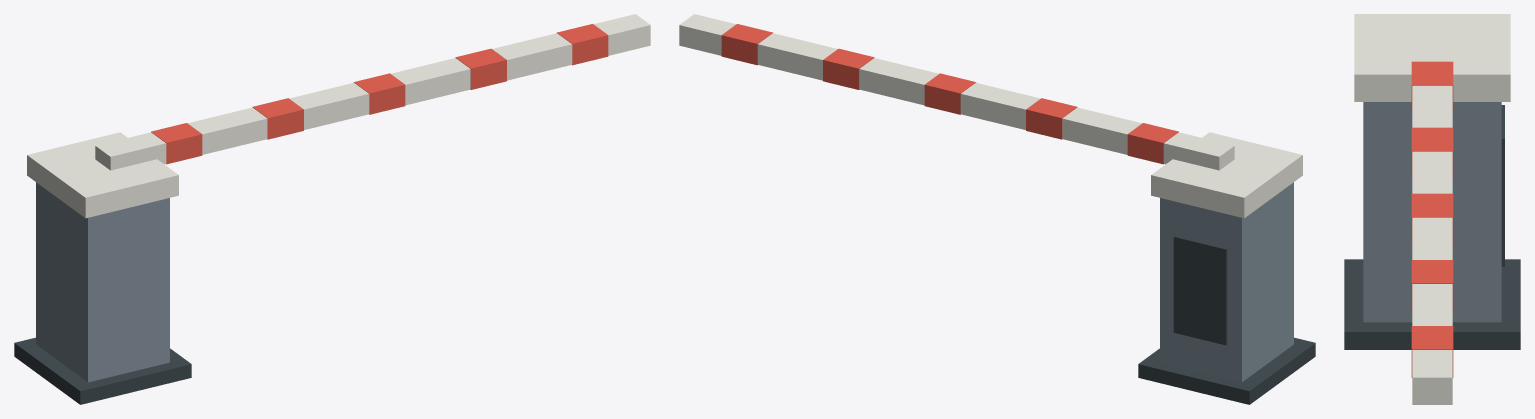
Rendered from barrier_gate.glb.
3 renders of one model, left to right at view 1: azimuth 30°, elevation 25°; view 2: azimuth 150°, elevation 25°; view 3: azimuth 270°, elevation 25°, orthographic. The views are drawn at different scales.
Parts seen in each view (by area): view 1: Motor housing, Barrier arm, Top cap, Base plate, Reflective stripe 2, Reflective stripe 0, Reflective stripe 1, Reflective stripe 3, Reflective stripe 4; view 2: Motor housing, Barrier arm, Top cap, Service panel, Base plate, Reflective stripe 2, Reflective stripe 0, Reflective stripe 1, Reflective stripe 3, Reflective stripe 4; view 3: Motor housing, Top cap, Barrier arm, Base plate, Reflective stripe 0, Reflective stripe 1, Reflective stripe 2, Reflective stripe 3, Reflective stripe 4, Service panel.
Boxes of the visible parts, x1=… form: Motor housing: x1=36, y1=182, x2=169, y2=382; Barrier arm: x1=95, y1=14, x2=650, y2=170; Top cap: x1=27, y1=132, x2=178, y2=218; Base plate: x1=14, y1=337, x2=191, y2=404; Reflective stripe 2: x1=353, y1=73, x2=405, y2=114; Reflective stripe 0: x1=151, y1=123, x2=202, y2=164; Reflective stripe 1: x1=252, y1=98, x2=303, y2=139; Reflective stripe 3: x1=455, y1=48, x2=506, y2=89; Reflective stripe 4: x1=557, y1=24, x2=608, y2=65; Motor housing: x1=1160, y1=182, x2=1293, y2=382; Barrier arm: x1=679, y1=14, x2=1234, y2=170; Top cap: x1=1151, y1=132, x2=1302, y2=218; Service panel: x1=1173, y1=236, x2=1227, y2=345; Base plate: x1=1138, y1=337, x2=1315, y2=404; Reflective stripe 2: x1=924, y1=73, x2=976, y2=114; Reflective stripe 0: x1=1127, y1=123, x2=1178, y2=164; Reflective stripe 1: x1=1026, y1=98, x2=1077, y2=139; Reflective stripe 3: x1=823, y1=48, x2=874, y2=89; Reflective stripe 4: x1=721, y1=24, x2=772, y2=65; Motor housing: x1=1363, y1=102, x2=1501, y2=322; Top cap: x1=1354, y1=14, x2=1510, y2=101; Barrier arm: x1=1412, y1=26, x2=1452, y2=404; Base plate: x1=1344, y1=259, x2=1520, y2=349; Reflective stripe 0: x1=1411, y1=61, x2=1453, y2=113; Reflective stripe 1: x1=1411, y1=127, x2=1453, y2=179; Reflective stripe 2: x1=1411, y1=193, x2=1453, y2=245; Reflective stripe 3: x1=1411, y1=260, x2=1453, y2=311; Reflective stripe 4: x1=1411, y1=326, x2=1453, y2=377; Service panel: x1=1501, y1=105, x2=1504, y2=266.
Size of the model in its own units: 3.64 by 1.26 by 0.7.
